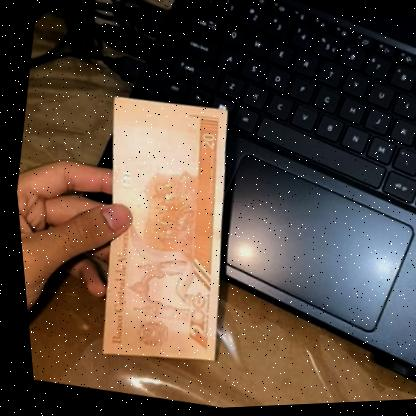twenty-back-vef: (60, 88, 255, 377)
